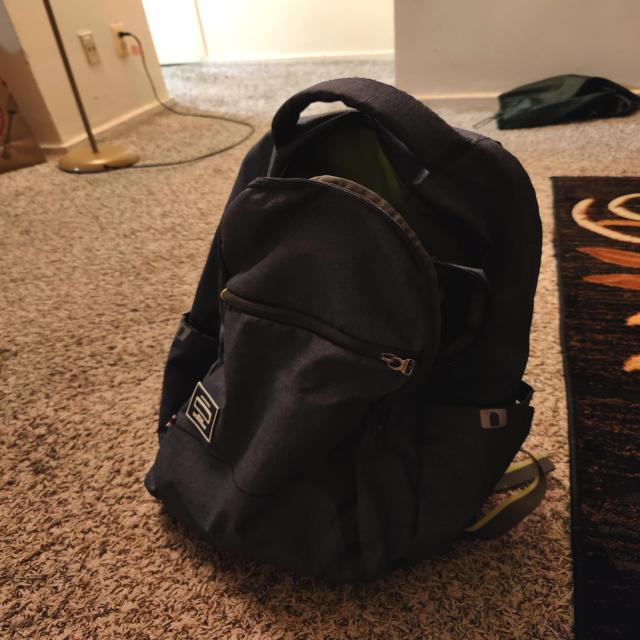bag: (159, 87, 524, 557)
